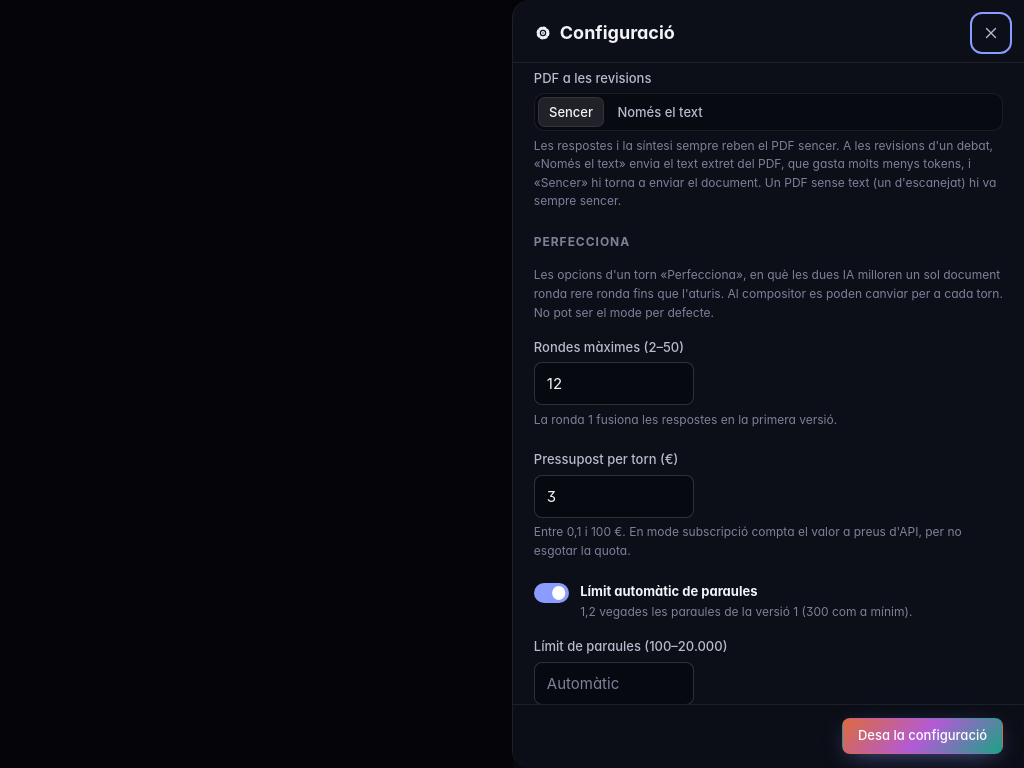
Test: SettingsDrawer: the defaults of the refine mode («Perfecciona») › does not save values out of range, and says which
(page scrolled)
Check: the element that starts with "Perfecciona" is shown, box 534,233 -> 1003,704
Replace the text in the 1st number field with "1". click: (614, 384)
box: 534,362 -> 694,405
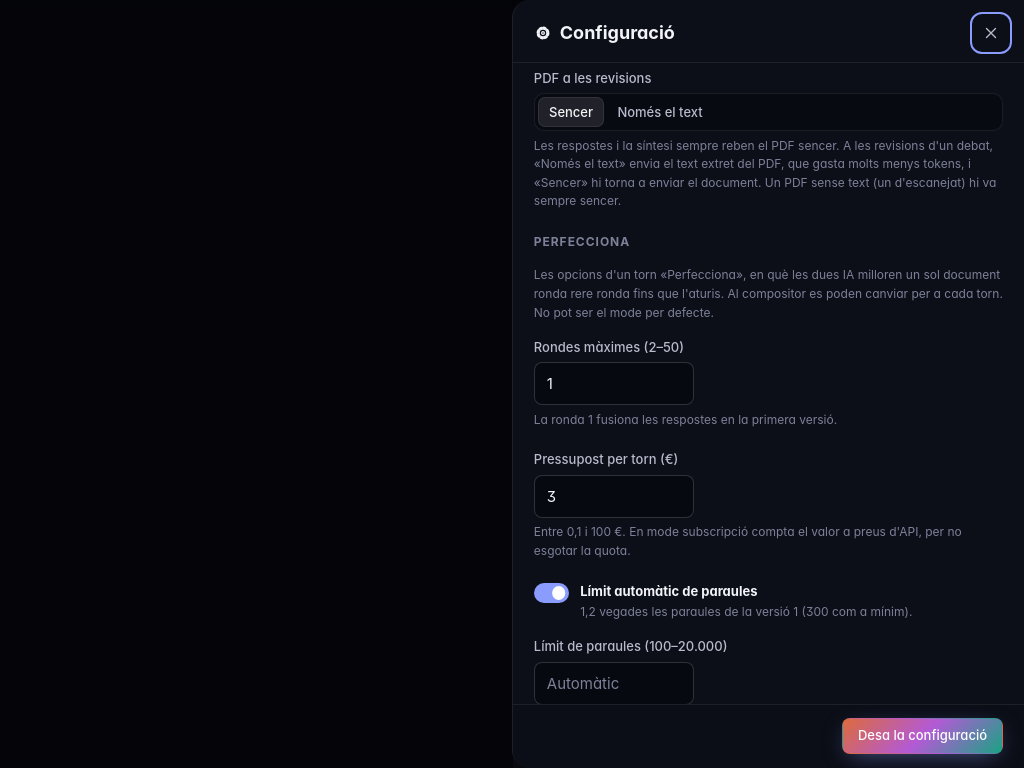
Replace the text in the field with "1.000". click: (614, 496)
box: 534,475 -> 694,518
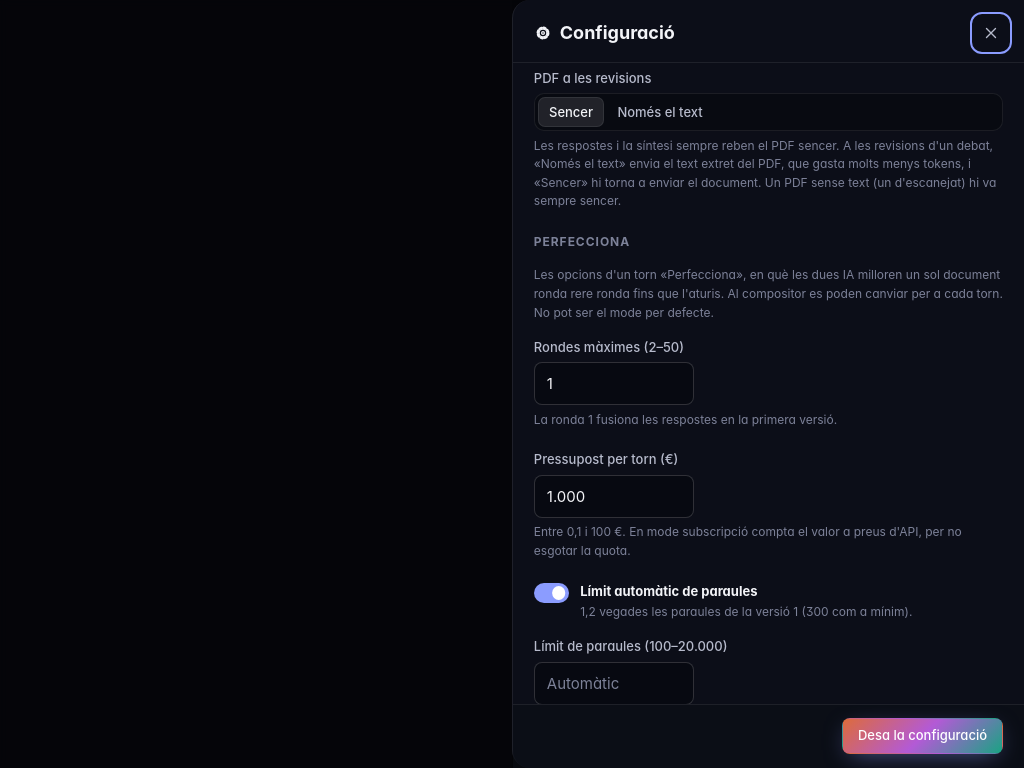
Click the checkbox. click: (551, 593)
box: 534,583 -> 569,603
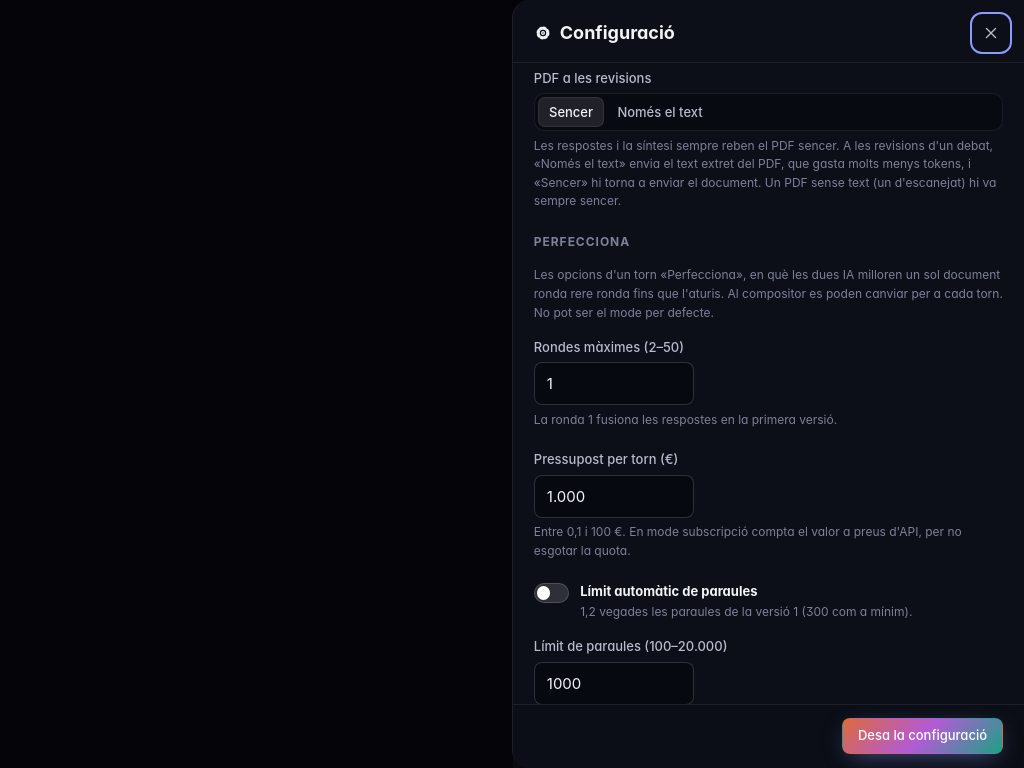
Clear the number field labelled "Límit de paraules (100–20.000)". click: (614, 683)
box: 534,662 -> 694,705
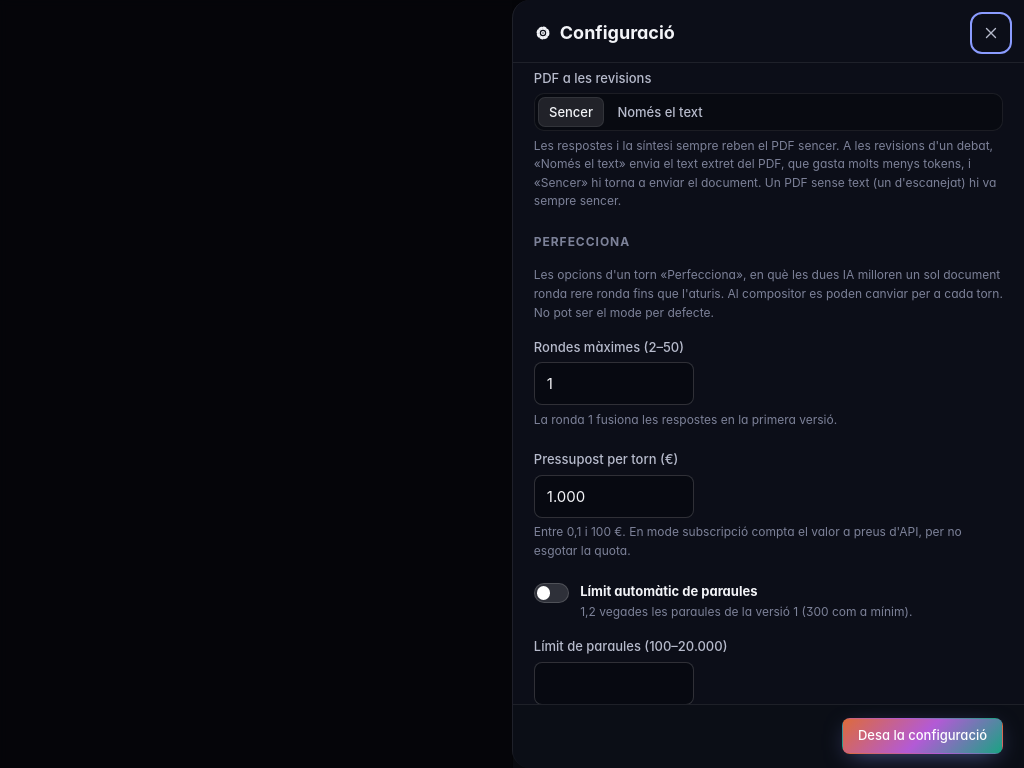
Submit the form, box 513,63 -> 1023,767
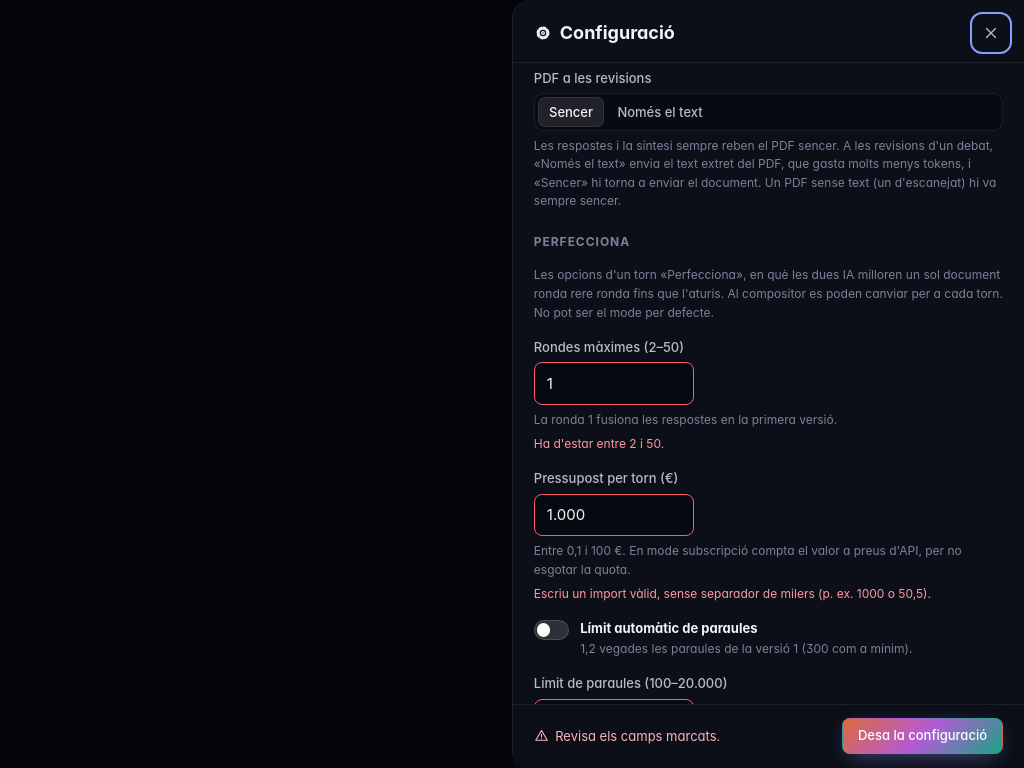
Check: the text "Ha d'estar entre 2 i 50." is shown, box 534,436 -> 664,451
Check: the message with class "result" reads "Revisa els camps marcats.", box 555,728 -> 720,744
